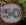Speed limit: (2, 1, 23, 22)
